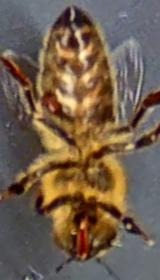varroa_mite: (37, 84, 73, 119)
